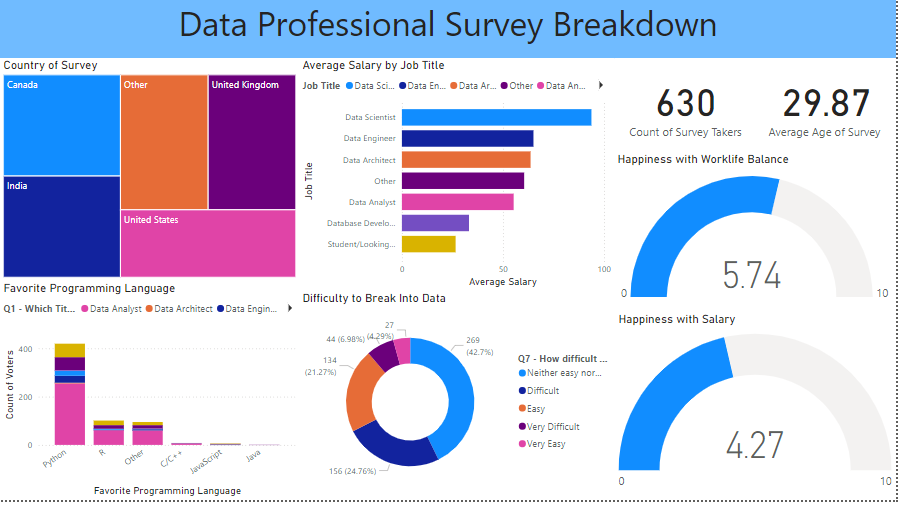

What the dashboard file says about the page in this screenshot:
{"tool":"powerbi","page":{"name":"Dashboard","canvas":[1280,720],"ordinal":0},"visuals":[{"type":"textbox","box":[0,0,1280.2,89.3],"z":0},{"type":"card","fields":{"Values":["CountNonNull(Data Professional Survey.Unique ID)"]},"box":[878.4,89.3,201.6,133.9],"z":1000},{"type":"card","fields":{"Values":["Avg(Data Professional Survey.Q10 - Current Age)"]},"box":[1080,89.3,200.2,133.9],"z":2000},{"type":"barChart","title":"Average Salary by Job Title","fields":{"Category":["Data Professional Survey.Q1 - Which Title Best Fits your Current Role?.1"],"Y":["Avg(Data Professional Survey.Average Salary)"],"Series":["Data Professional Survey.Q1 - Which Title Best Fits your Current Role?.1"]},"box":[427.7,89.3,450.7,332.6],"z":3000},{"type":"columnChart","title":"Favorite Programming Language","fields":{"Category":["Data Professional Survey.Q5 - Favorite Programming Language.1"],"Y":["CountNonNull(Data Professional Survey.Unique ID)"],"Series":["Data Professional Survey.Q1 - Which Title Best Fits your Current Role?.1"]},"box":[0,407.5,427.7,312.5],"z":4000},{"type":"treemap","title":"Country of Survey","fields":{"Values":["Count(Data Professional Survey.Q11 - Which Country do you live in?.1)"],"Group":["Data Professional Survey.Q11 - Which Country do you live in?.1"]},"box":[0,89.3,427.7,318.2],"z":5000},{"type":"gauge","title":"Happiness with Worklife Balance","fields":{"Y":["Avg(Data Professional Survey.Q6 - How Happy are you in your Current Position with the following? (Work/Life Balance))"],"MinValue":["Min(Data Professional Survey.Q6 - How Happy are you in your Current Position with the following? (Work/Life Balance))"],"MaxValue":["Max(Data Professional Survey.Q6 - How Happy are you in your Current Position with the following? (Work/Life Balance))1"]},"box":[877,223.2,401.8,227.5],"z":6000},{"type":"gauge","title":"Happiness with Salary","fields":{"Y":["Avg(Data Professional Survey.Q6 - How Happy are you in your Current Position with the following? (Salary))"],"MinValue":["Min(Data Professional Survey.Q6 - How Happy are you in your Current Position with the following? (Salary))"],"MaxValue":["Max(Data Professional Survey.Q6 - How Happy are you in your Current Position with the following? (Salary))"]},"box":[878.4,450.7,400.3,269.3],"z":7000},{"type":"donutChart","title":"Difficulty to Break Into Data","fields":{"Category":["Data Professional Survey.Q7 - How difficult was it for you to break into Data?"],"Y":["CountNonNull(Data Professional Survey.Q1 - Which Title Best Fits your Current Role?.1)"]},"box":[427.7,421.9,450.7,298.1],"z":8000}]}

Visuals, with their boxes in screenshot pixels (x1, y1, x2, y2), scaled from the page's 1280x720 canvas onto the 898x505 screenshot:
textbox: box=[0, 0, 897, 63]
card - CountNonNull(Data Professional Survey.Unique ID): box=[616, 63, 758, 157]
card - Avg(Data Professional Survey.Q10 - Current Age): box=[758, 63, 897, 157]
"Average Salary by Job Title" barChart: box=[300, 63, 616, 296]
"Favorite Programming Language" columnChart: box=[0, 286, 300, 504]
"Country of Survey" treemap: box=[0, 63, 300, 286]
"Happiness with Worklife Balance" gauge: box=[615, 157, 897, 316]
"Happiness with Salary" gauge: box=[616, 316, 897, 504]
"Difficulty to Break Into Data" donutChart: box=[300, 296, 616, 504]
